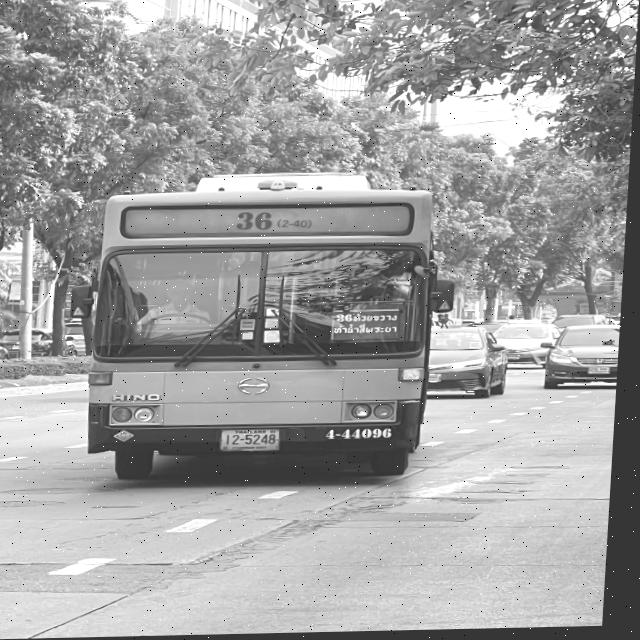BMTA-bus: (60, 163, 470, 496)
Bus Line Number: (232, 207, 324, 234)
Bus Side Number: (326, 428, 402, 443)
Destination Sign: (334, 310, 408, 345)
